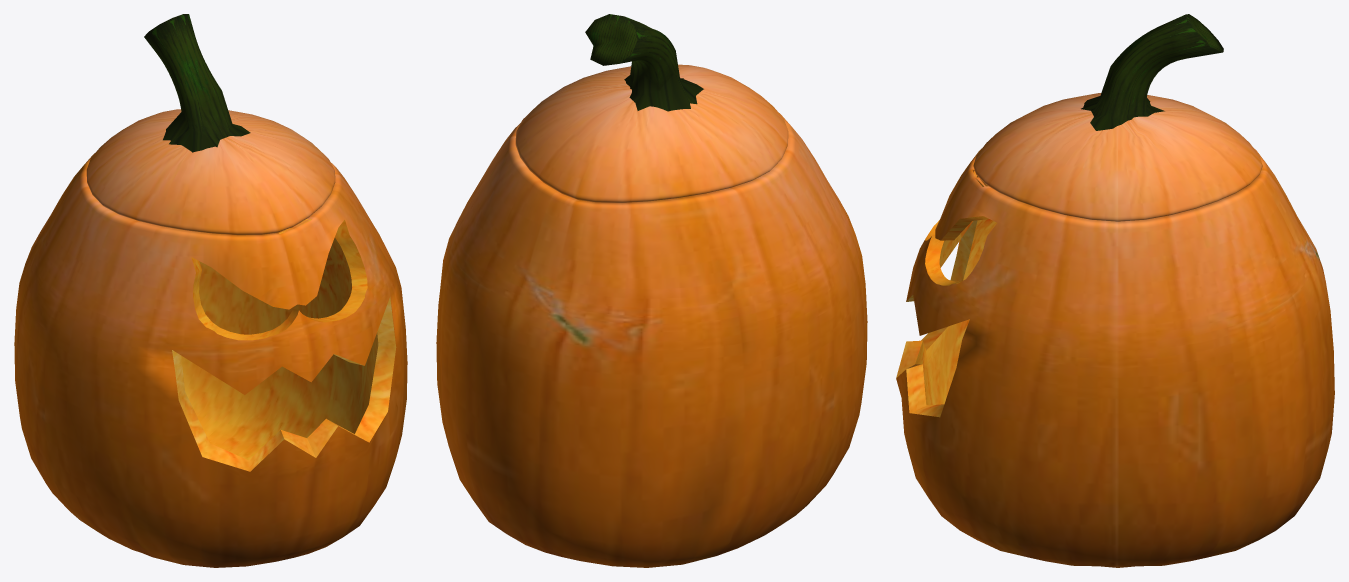
Rendered from pumpkin5.glb.
3 renders of one model, left to right at view 1: azimuth 30°, elevation 25°; view 2: azimuth 150°, elevation 25°; view 3: azimuth 270°, elevation 25°, orthographic. The views are drawn at different scales.
Parts seen in each view (by area): view 1: backL_pumpkin_body; view 2: backL_pumpkin_body; view 3: backL_pumpkin_body.
Boxes of the visible parts, bbox=[...] form: backL_pumpkin_body: bbox=[14, 14, 407, 567]; backL_pumpkin_body: bbox=[436, 14, 867, 567]; backL_pumpkin_body: bbox=[896, 14, 1334, 567].
Size of the model in its own units: 12.02 by 16.57 by 13.
Materials: 4 (4 with a texture image).
